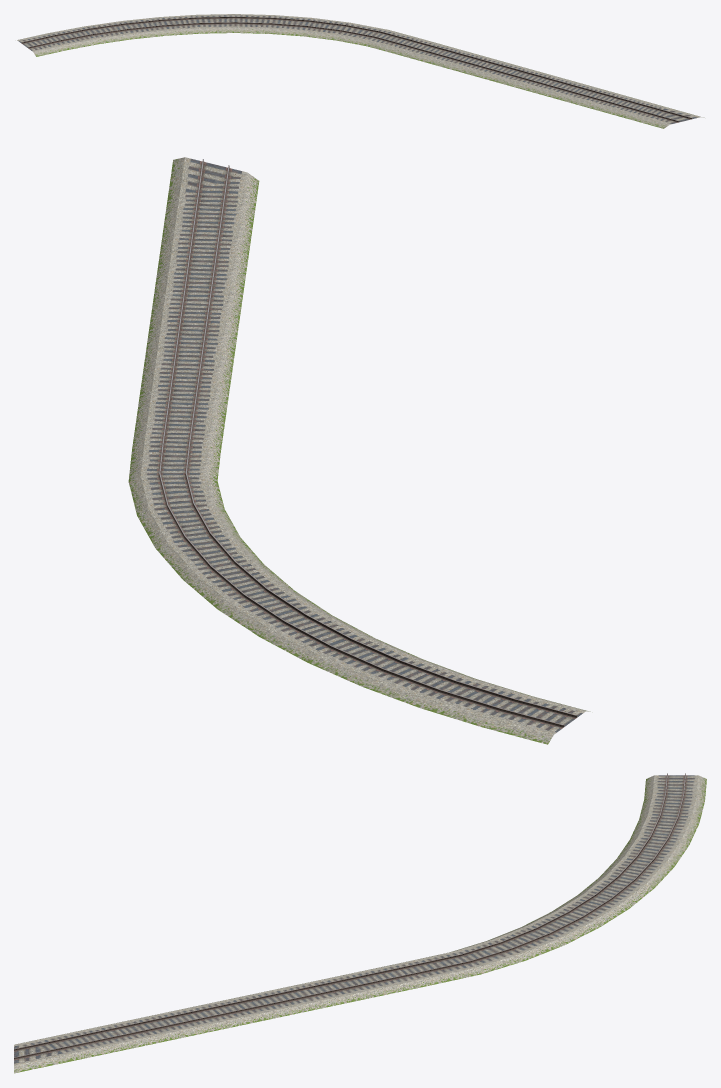
Rendered from Tr_F45Bend.fbx.
3 views of the same model, one above another, from view 1: azimuth 30°, elevation 25°; view 2: azimuth 150°, elevation 25°; view 3: azimuth 270°, elevation 25° (orthographic). The views are drawn at different scales.
Parts seen in each view (by area): view 1: U3DMesh; view 2: U3DMesh; view 3: U3DMesh.
Part boxes in pixels (x1,y1,x2,y2): U3DMesh: (17, 14, 704, 128); U3DMesh: (128, 157, 590, 744); U3DMesh: (14, 773, 706, 1073).
Size of the model in its own units: 50.47 by 0.4496 by 50.21.
